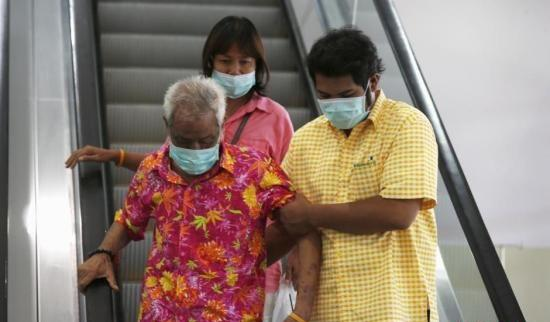OK: (316, 74, 373, 131), (173, 126, 220, 173)
WRONG: (216, 50, 257, 96)
